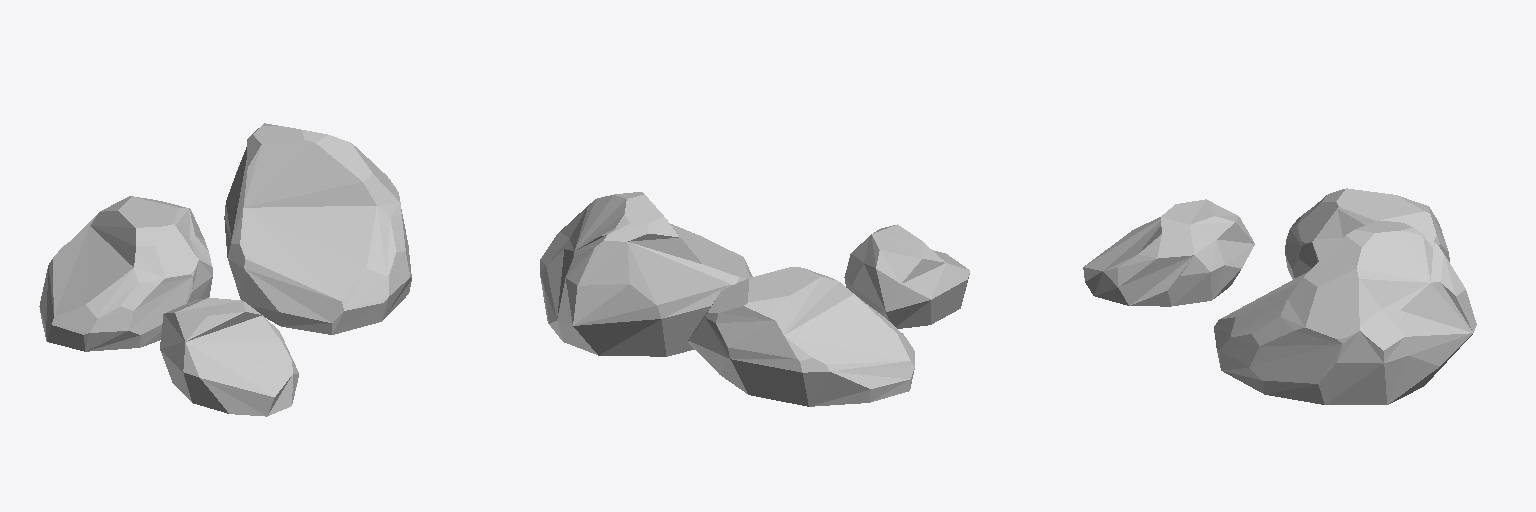
File: Stones_1.obj
The picture shows the model from 3 angles: view 1: azimuth 30°, elevation 25°; view 2: azimuth 150°, elevation 25°; view 3: azimuth 270°, elevation 25°; orthographic projection.
Parts seen in each view (by area): view 1: Stones_1; view 2: Stones_1; view 3: Stones_1.
Boxes of the visible parts, x1=… form: Stones_1: x1=39, y1=123, x2=411, y2=416; Stones_1: x1=540, y1=192, x2=969, y2=406; Stones_1: x1=1083, y1=188, x2=1476, y2=404.
Size of the model in its own units: 1.79 by 0.6662 by 1.73.